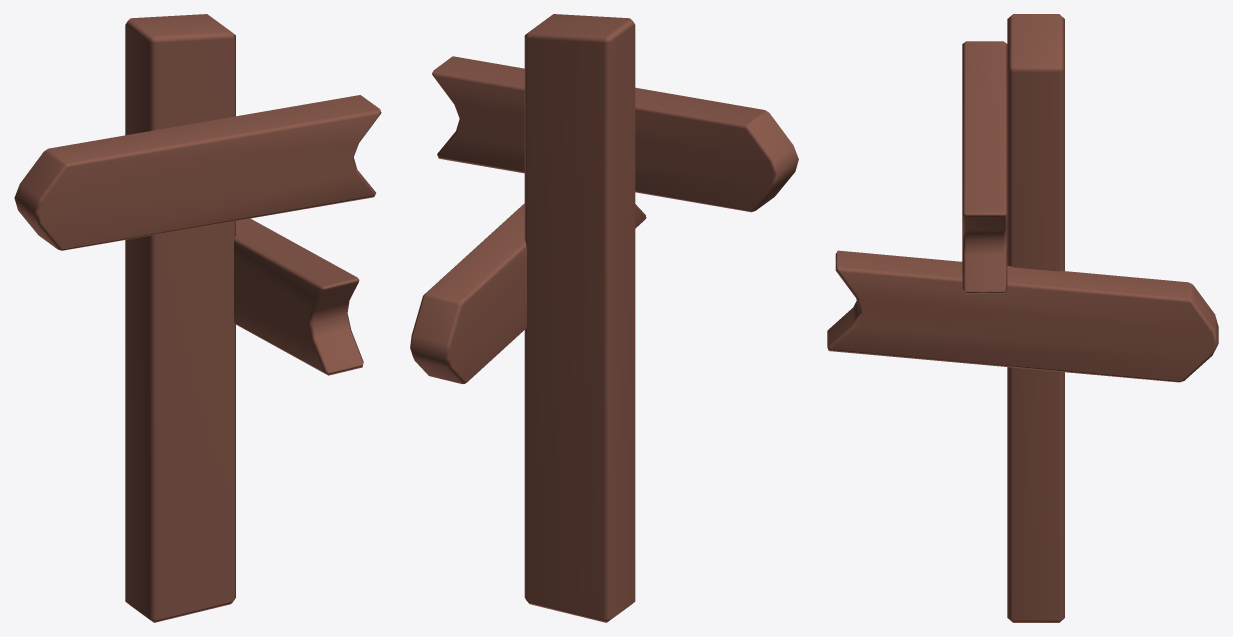
Rendered from Farm_7_Signpost_1.glb.
3 views of the same model, side by side, from view 1: azimuth 30°, elevation 25°; view 2: azimuth 150°, elevation 25°; view 3: azimuth 270°, elevation 25° (orthographic). The views are drawn at different scales.
Visible parts, largest first — view 1: Farm_7_Signpost_1; view 2: Farm_7_Signpost_1; view 3: Farm_7_Signpost_1.
Boxes of the visible parts, bbox=[...] form: Farm_7_Signpost_1: bbox=[14, 14, 381, 622]; Farm_7_Signpost_1: bbox=[410, 14, 798, 622]; Farm_7_Signpost_1: bbox=[827, 14, 1218, 622].
Bounding box in the file's own units: 1.49 × 2.41 × 1.49.
1 material, 1 textured.
